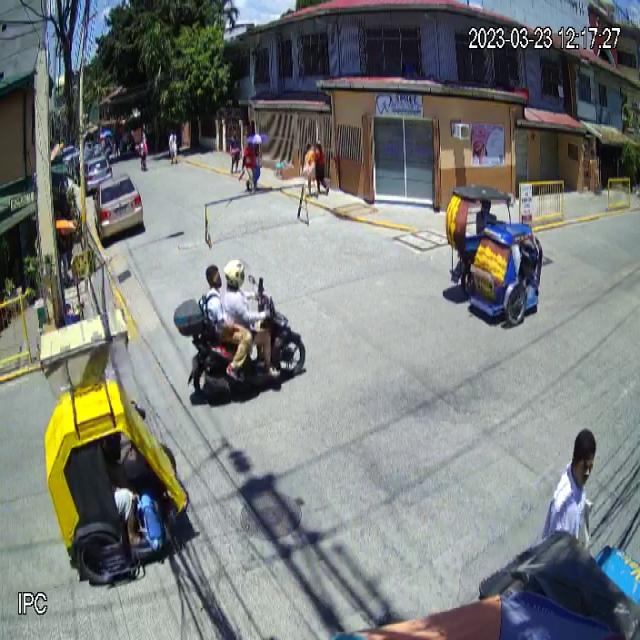Motorcycle: (172, 274, 306, 404)
Tricycle: (444, 183, 544, 326)
